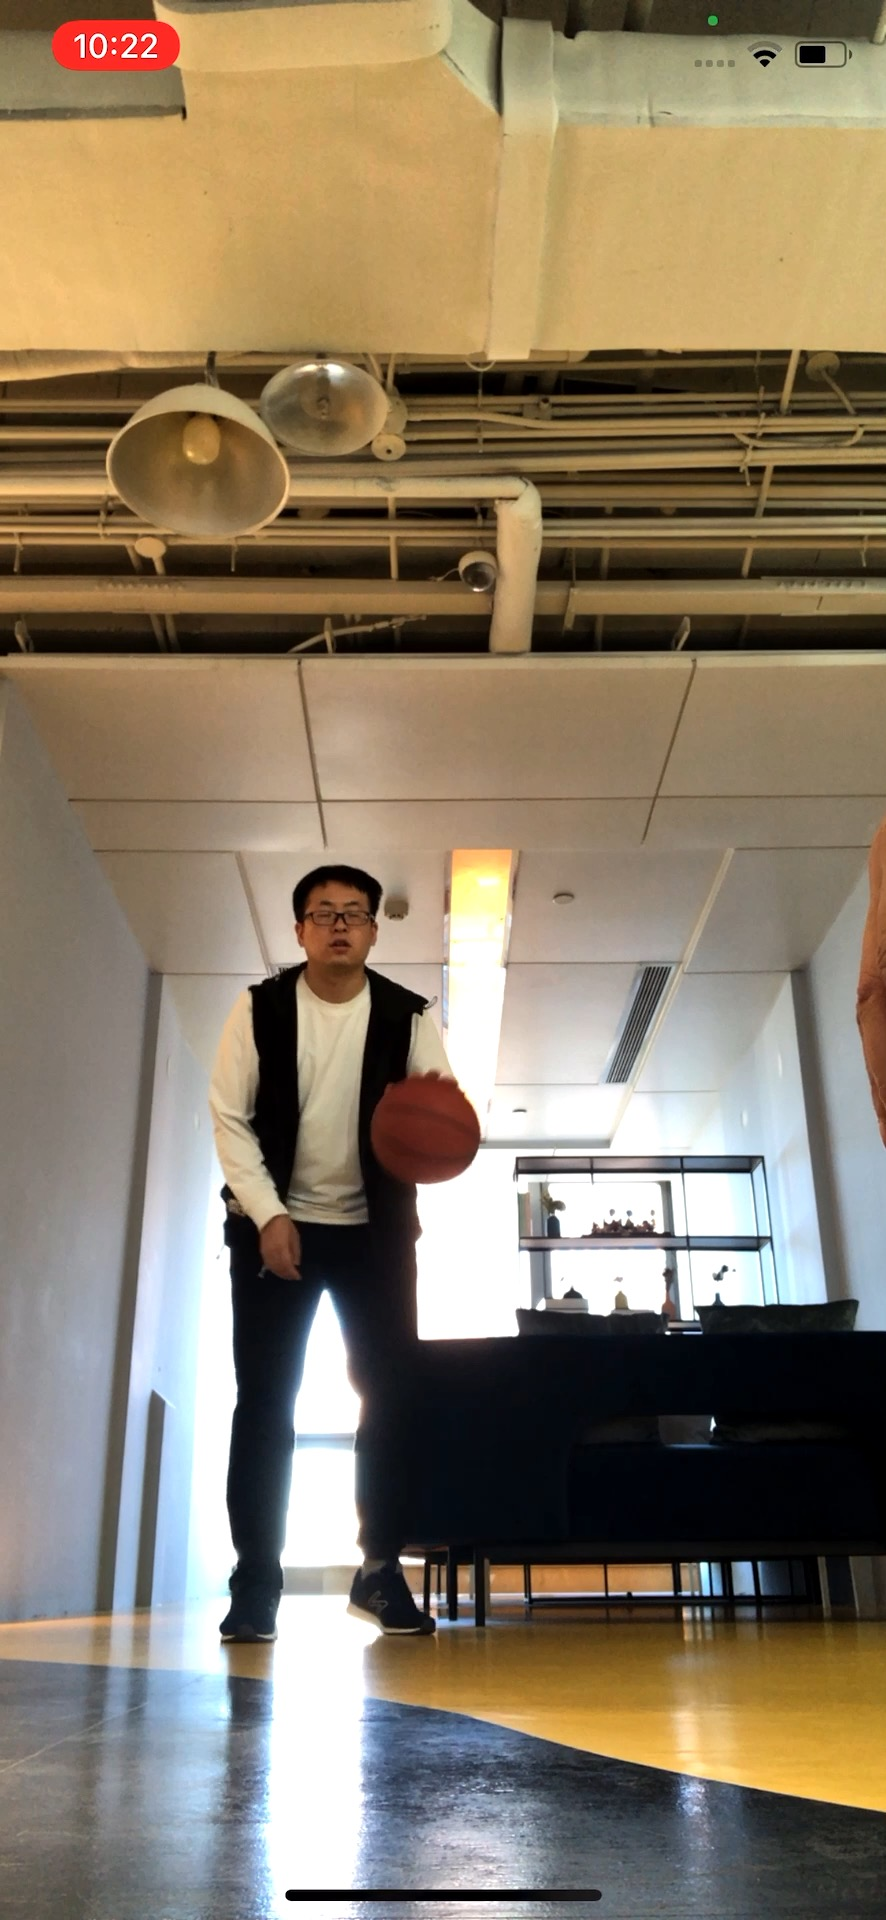ball: (370, 1082, 478, 1188)
